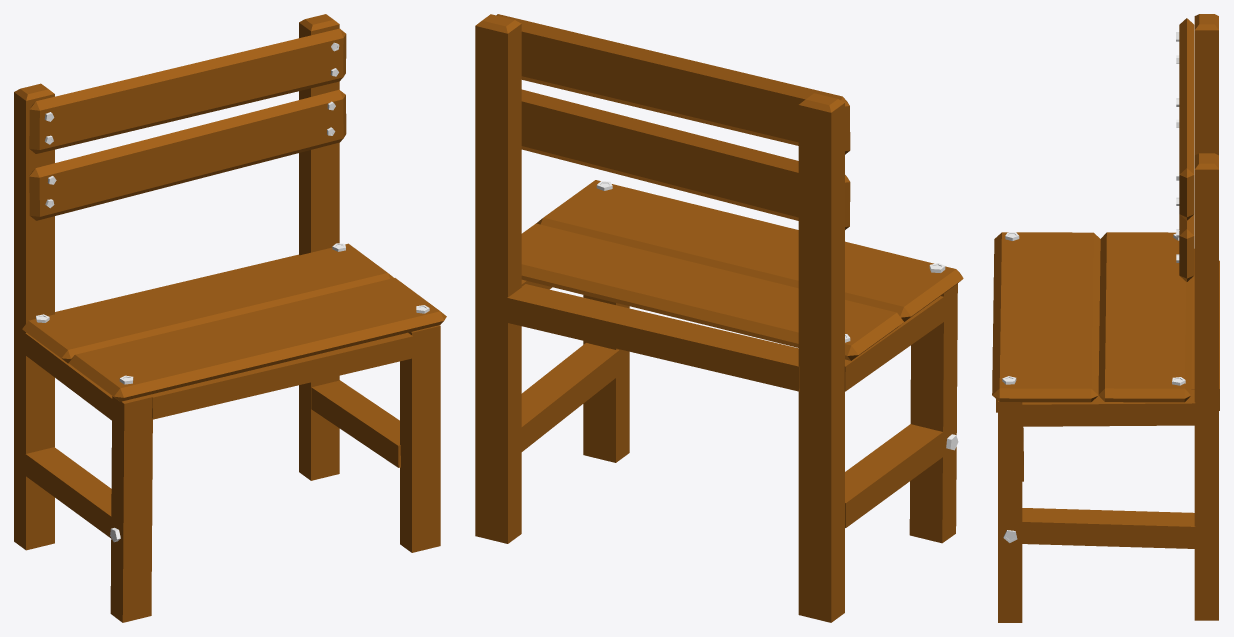
The model's file is Chair.fbx.
3 views of the same model, side by side, from view 1: azimuth 30°, elevation 25°; view 2: azimuth 150°, elevation 25°; view 3: azimuth 270°, elevation 25° (orthographic). The views are drawn at different scales.
Parts seen in each view (by area): view 1: Cube.001, Cube.007, Cube.006, Cube.014, Cube.005, Cube.002, Cube.003, Cube.004, Cube.012, Cube.010, Cube.009, Cube.008; view 2: Cube.005, Cube.004, Cube.001, Cube.014, Cube.006, Cube.007, Cube.013, Cube.002, Cube.010, Cube.009, Cube.003, Cube.008; view 3: Cube.001, Cube.014, Cube.004, Cube.010, Cube.003, Cube.011, Cube.005, Cube.006, Cube.007, Cube.013.
Part boxes in pixels (x1,y1,x2,y2): Cube.001: (69,278,446,401); Cube.007: (29,89,346,220); Cube.006: (29,28,346,153); Cube.014: (22,243,393,363); Cube.005: (14,83,54,550); Cube.002: (110,395,152,622); Cube.003: (400,325,440,552); Cube.004: (299,14,339,480); Cube.012: (150,332,413,419); Cube.010: (311,380,400,467); Cube.009: (25,447,111,538); Cube.008: (25,333,112,420); Cube.005: (798,93,844,622); Cube.004: (475,14,521,543); Cube.001: (536,180,963,321); Cube.014: (521,223,903,360); Cube.006: (496,14,850,154); Cube.007: (521,89,850,229); Cube.013: (506,284,799,391); Cube.002: (909,283,957,543); Cube.010: (521,343,619,451); Cube.009: (845,424,943,527); Cube.003: (583,295,629,462); Cube.008: (844,296,944,391); Cube.001: (992,232,1100,402); Cube.014: (1098,232,1192,402); Cube.004: (1194,153,1218,620); Cube.010: (1022,508,1195,548); Cube.003: (998,401,1022,622); Cube.011: (1022,389,1195,426); Cube.005: (1194,14,1218,155); Cube.006: (1179,18,1194,220); Cube.007: (1179,214,1194,281); Cube.013: (1191,260,1219,410).
Size of the model in its own units: 41.99 by 54.89 by 24.84.
